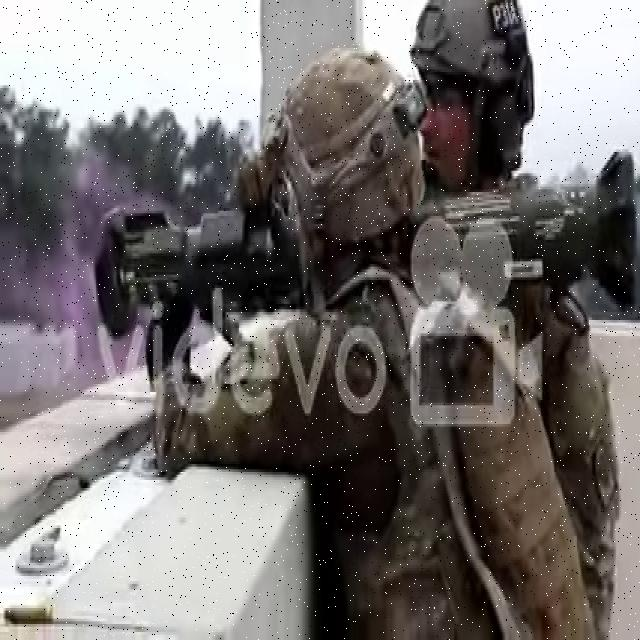bazooka: (91, 141, 640, 349)
